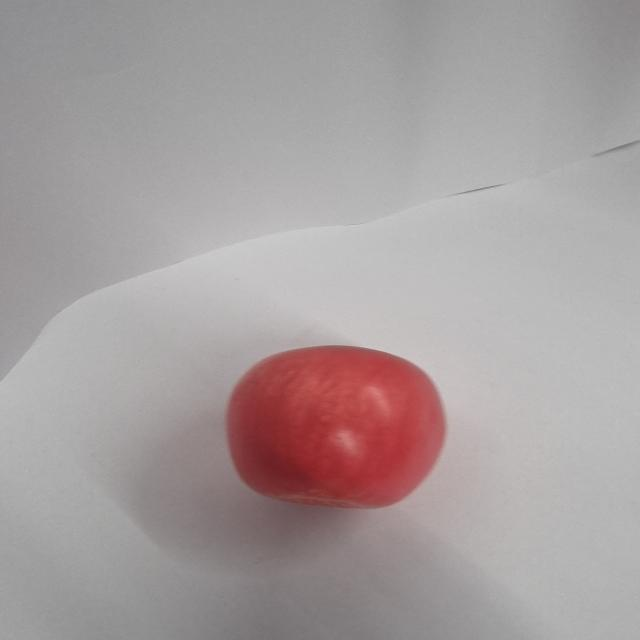apple: (227, 344, 448, 511)
